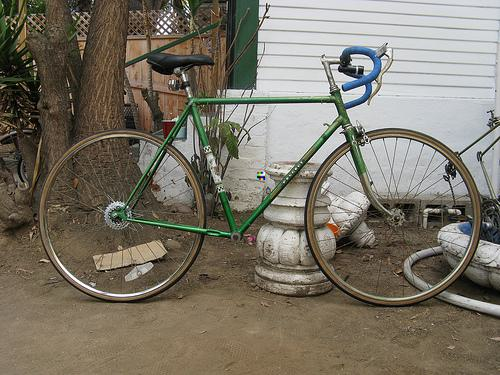car: (39, 45, 483, 307)
